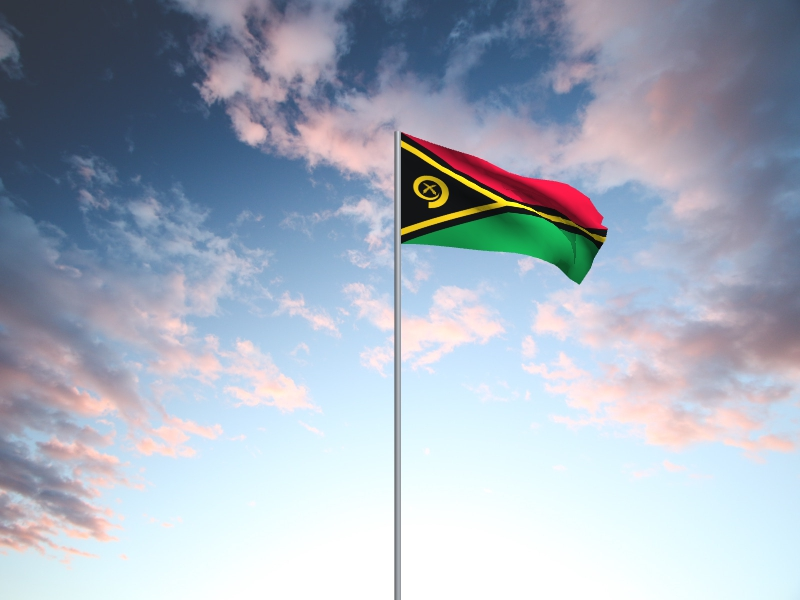vu: (402, 133, 609, 286)
